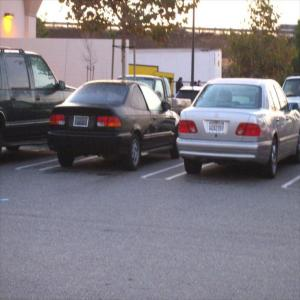Vehicle-registration-plate: (75, 116, 90, 129), (209, 122, 224, 134)
